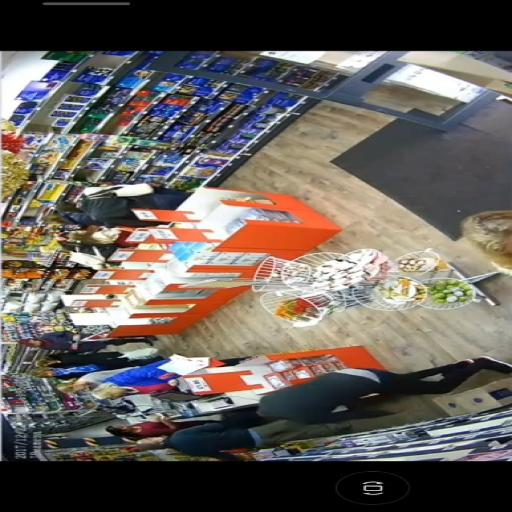workers: (56, 354, 241, 401), (58, 180, 195, 228)
